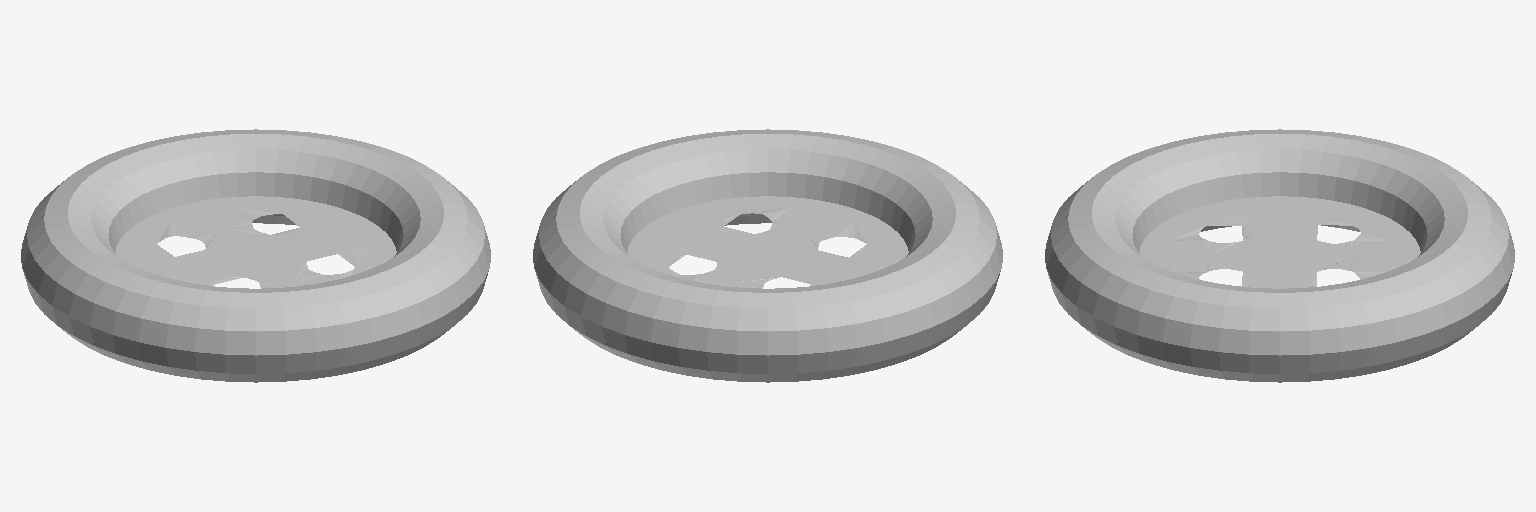
File: button.obj
The picture shows the model from 3 angles: view 1: azimuth 30°, elevation 25°; view 2: azimuth 150°, elevation 25°; view 3: azimuth 270°, elevation 25°; orthographic projection.
Visible parts, largest first — view 1: Torus, Plane.002, Plane.003, Plane, Plane.001; view 2: Torus, Plane, Plane.001, Plane.002, Plane.003; view 3: Torus, Plane.001, Plane.003, Plane.002, Plane.
Part boxes in pixels (x1,y1,x2,y2): Torus: (21, 129, 490, 382); Plane.002: (186, 196, 376, 255); Plane.003: (115, 204, 255, 277); Plane: (257, 226, 396, 285); Plane.001: (168, 256, 296, 288); Torus: (533, 129, 1002, 382); Plane: (647, 196, 837, 255); Plane.001: (768, 204, 908, 277); Plane.002: (627, 226, 766, 285); Plane.003: (727, 256, 855, 288); Torus: (1045, 129, 1514, 382); Plane.001: (1139, 196, 1279, 255); Plane.003: (1280, 196, 1420, 255); Plane.002: (1279, 256, 1417, 288); Plane: (1142, 256, 1279, 288).
Bounding box in the file's own units: 2.5 × 0.5 × 2.5.